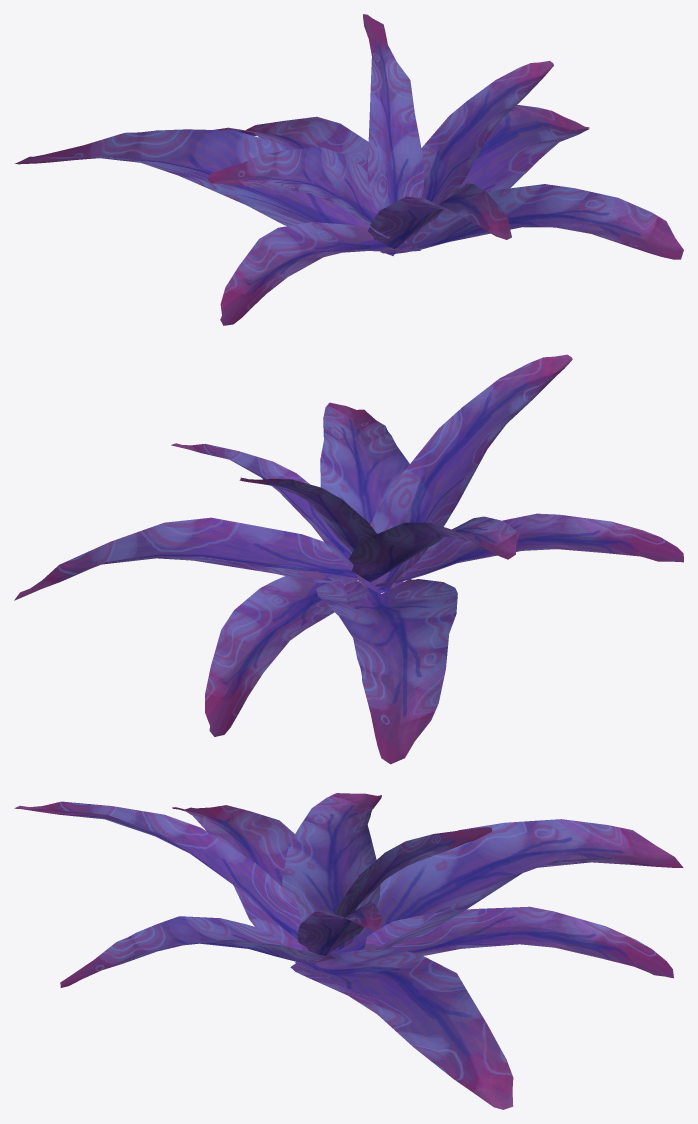
File: touffe_rose2.fbx
The picture shows the model from 3 angles, top to bottom: view 1: azimuth 30°, elevation 25°; view 2: azimuth 150°, elevation 25°; view 3: azimuth 270°, elevation 25°; orthographic projection. The views are drawn at different scales.
Parts seen in each view (by area): view 1: Plane.076, Plane.079, Plane.084, Plane.078, Plane.081, Plane.083, Plane.077, Plane.080, Plane.082; view 2: Plane.076, Plane.080, Plane.077, Plane.082, Plane.079, Plane.078, Plane.083, Plane.081, Plane.084; view 3: Plane.076, Plane.077, Plane.082, Plane.083, Plane.080, Plane.079, Plane.078, Plane.084, Plane.081.
Part boxes in pixels (<box>): Plane.076: <box>15,129,394,256</box>; Plane.079: <box>380,184,683,259</box>; Plane.084: <box>363,14,424,212</box>; Plane.078: <box>220,222,420,325</box>; Plane.081: <box>414,60,553,233</box>; Plane.083: <box>207,146,390,238</box>; Plane.077: <box>404,104,589,244</box>; Plane.080: <box>368,183,511,248</box>; Plane.082: <box>214,116,368,172</box>; Plane.076: <box>316,578,457,764</box>; Plane.080: <box>370,354,572,590</box>; Plane.077: <box>14,517,363,600</box>; Plane.082: <box>205,571,368,736</box>; Plane.079: <box>320,402,410,593</box>; Plane.078: <box>375,513,683,586</box>; Plane.083: <box>349,516,518,582</box>; Plane.081: <box>171,443,353,566</box>; Plane.084: <box>239,477,391,571</box>; Plane.076: <box>333,819,683,953</box>; Plane.077: <box>290,949,513,1109</box>; Plane.082: <box>364,906,673,978</box>; Plane.083: <box>282,793,381,951</box>; Plane.080: <box>14,801,317,954</box>; Plane.079: <box>60,916,335,987</box>; Plane.078: <box>172,805,335,956</box>; Plane.084: <box>333,827,491,917</box>; Plane.081: <box>297,901,382,956</box>.
Size of the model in its own units: 290 by 96.22 by 324.
1 material, 1 textured.
